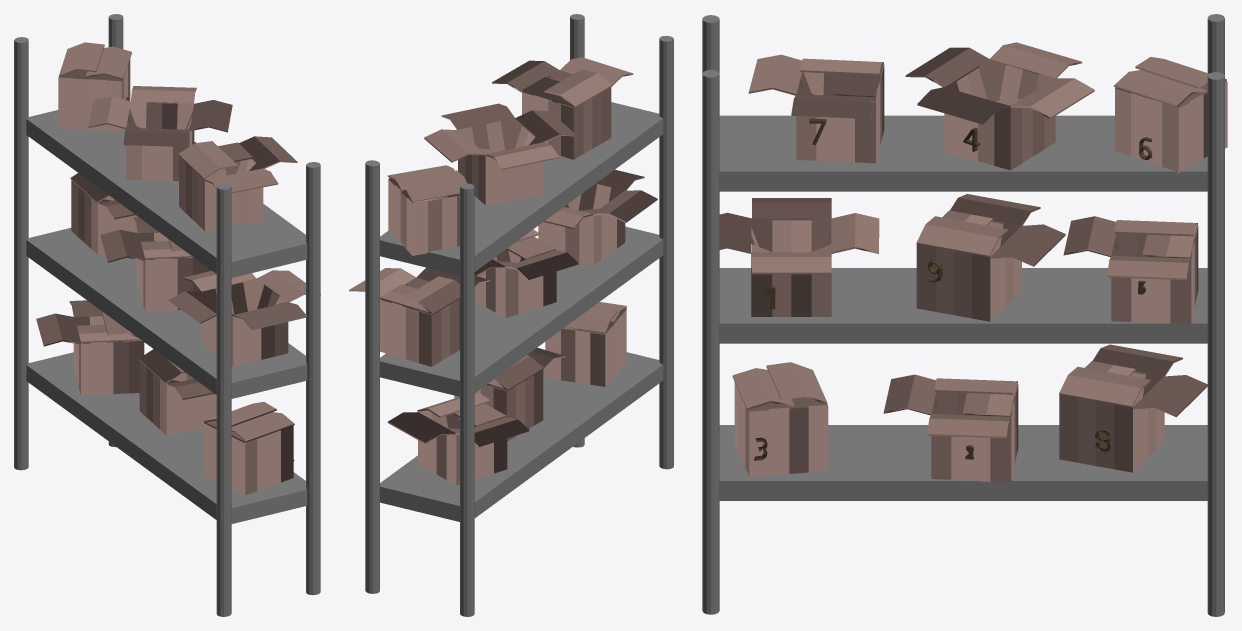
File: scatole combinazione.fbx
3 views of the same model, side by side, from view 1: azimuth 30°, elevation 25°; view 2: azimuth 150°, elevation 25°; view 3: azimuth 270°, elevation 25° (orthographic). The views are drawn at different scales.
Visible parts, largest first — view 1: Cube, Cube_1, Cube_2, Cube_4, Cube_3, Generic_6, Cylinder_1, Cylinder, Cylinder_2, Generic_3, Generic_2, Generic (+4 smaller); view 2: Cube_2, Cube_1, Cube, Cube_4, Generic_4, Generic_6, Cylinder_3, Cylinder_2, Generic_3, Cylinder_1, Cube_3, Generic_5 (+4 smaller); view 3: Cube, Cube_2, Cube_1, Cube_4, Generic_3, Generic, Cube_3, Generic_6, Generic_4, Generic_1, Cylinder_3, Cylinder (+4 smaller).
Boxes of the visible parts, x1,y1,x2,y2 form: Cube: (26, 110, 307, 277); Cube_1: (26, 228, 307, 398); Cube_2: (26, 352, 307, 523); Cube_4: (88, 86, 232, 181); Cube_3: (169, 270, 320, 366); Generic_6: (178, 136, 297, 231); Cylinder_1: (216, 183, 231, 616); Cylinder: (306, 162, 320, 595); Cylinder_2: (14, 37, 28, 470); Generic_3: (36, 300, 144, 395); Generic_2: (203, 402, 294, 495); Generic: (100, 217, 208, 311); Cube_2: (380, 352, 663, 521); Cube_1: (380, 226, 663, 396); Cube: (380, 102, 663, 275); Cube_4: (424, 103, 576, 205); Generic_4: (349, 267, 489, 366); Generic_6: (492, 57, 633, 159); Cylinder_3: (365, 160, 379, 593); Cylinder_2: (460, 183, 474, 616); Generic_3: (387, 392, 529, 485); Cylinder_1: (659, 35, 673, 469); Cube_3: (538, 169, 657, 265); Generic_5: (387, 165, 466, 255); Cube: (719, 115, 1207, 191); Cube_2: (719, 425, 1207, 500); Cube_1: (719, 268, 1207, 343); Cube_4: (905, 42, 1094, 170); Generic_3: (1059, 344, 1207, 472); Generic: (916, 194, 1065, 321); Cube_3: (719, 198, 879, 316); Generic_6: (748, 54, 884, 163); Generic_4: (1063, 216, 1198, 324); Generic_1: (883, 374, 1018, 482); Cylinder_3: (1207, 72, 1224, 616); Cylinder: (702, 69, 719, 614).
Bounding box in the file's own units: 11.56 × 31.49 × 27.91.
